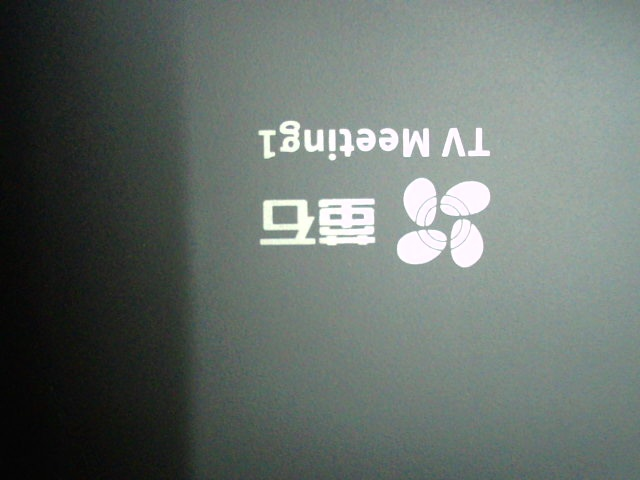BA_Yingshi: (258, 114, 496, 271)
